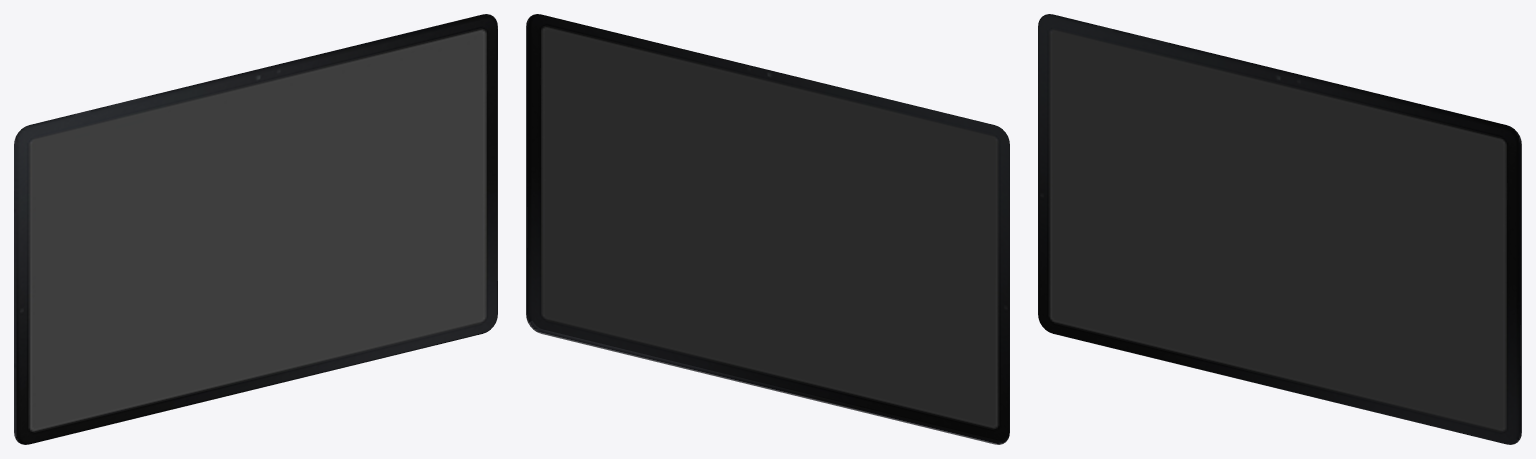
File: Tab.fbx
3 renders of one model, left to right at view 1: azimuth 30°, elevation 25°; view 2: azimuth 150°, elevation 25°; view 3: azimuth 330°, elevation 25°, orthographic.
Visible parts, largest first — view 1: Tab; view 2: Tab; view 3: Tab.
Boxes of the visible parts, left/top/right/bottom form: Tab: left=14, top=14, right=497, bottom=444; Tab: left=526, top=14, right=1009, bottom=444; Tab: left=1038, top=14, right=1521, bottom=444.
Size of the model in its own units: 31.72 by 20.01 by 0.221.
1 material, 1 textured.
